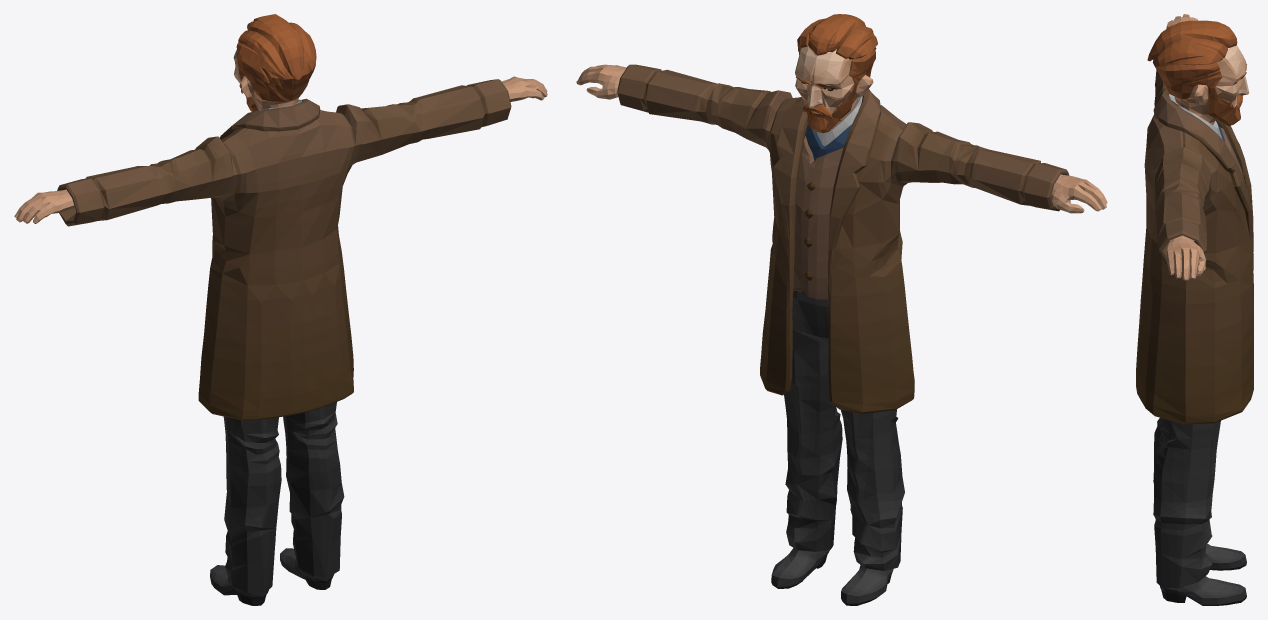
File: NPC_AP31Artist.glb
3 renders of one model, left to right at view 1: azimuth 30°, elevation 25°; view 2: azimuth 150°, elevation 25°; view 3: azimuth 270°, elevation 25°, orthographic.
Visible parts, largest first — view 1: NPC_AP31Artist; view 2: NPC_AP31Artist; view 3: NPC_AP31Artist.
Part boxes in pixels (bbox=[...]): NPC_AP31Artist: bbox=[14, 14, 547, 605]; NPC_AP31Artist: bbox=[576, 14, 1107, 605]; NPC_AP31Artist: bbox=[1136, 14, 1253, 605].
Bounding box in the file's own units: 13.75 × 13.94 × 2.67.
1 material, 1 textured.
